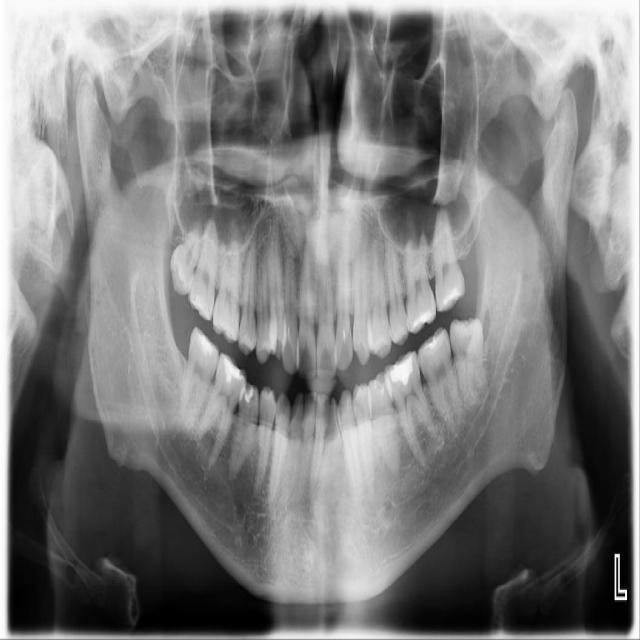3M ESPE Implant: (163, 216, 206, 297)
52: (373, 346, 436, 408), (406, 325, 465, 383), (201, 349, 259, 407), (175, 324, 231, 381), (175, 269, 227, 324), (406, 284, 437, 335), (435, 264, 466, 312), (212, 295, 239, 345), (281, 323, 299, 374), (335, 323, 353, 370), (239, 381, 259, 421)
73: (604, 556, 606, 564)
BioHorizons Implant: (431, 193, 467, 314)
Biomet 3i Implant: (448, 315, 490, 409)
Blue Sky Bio Implant: (413, 326, 466, 436)
Caries: (185, 210, 221, 321)
Implant: (176, 326, 223, 432)
